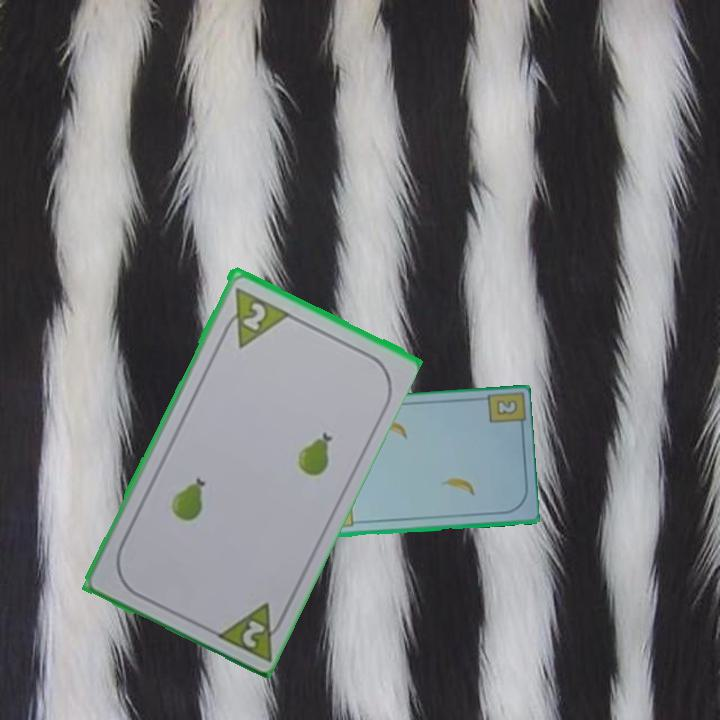2b: (492, 396, 520, 418)
2p: (209, 598, 291, 663), (216, 283, 291, 351)
